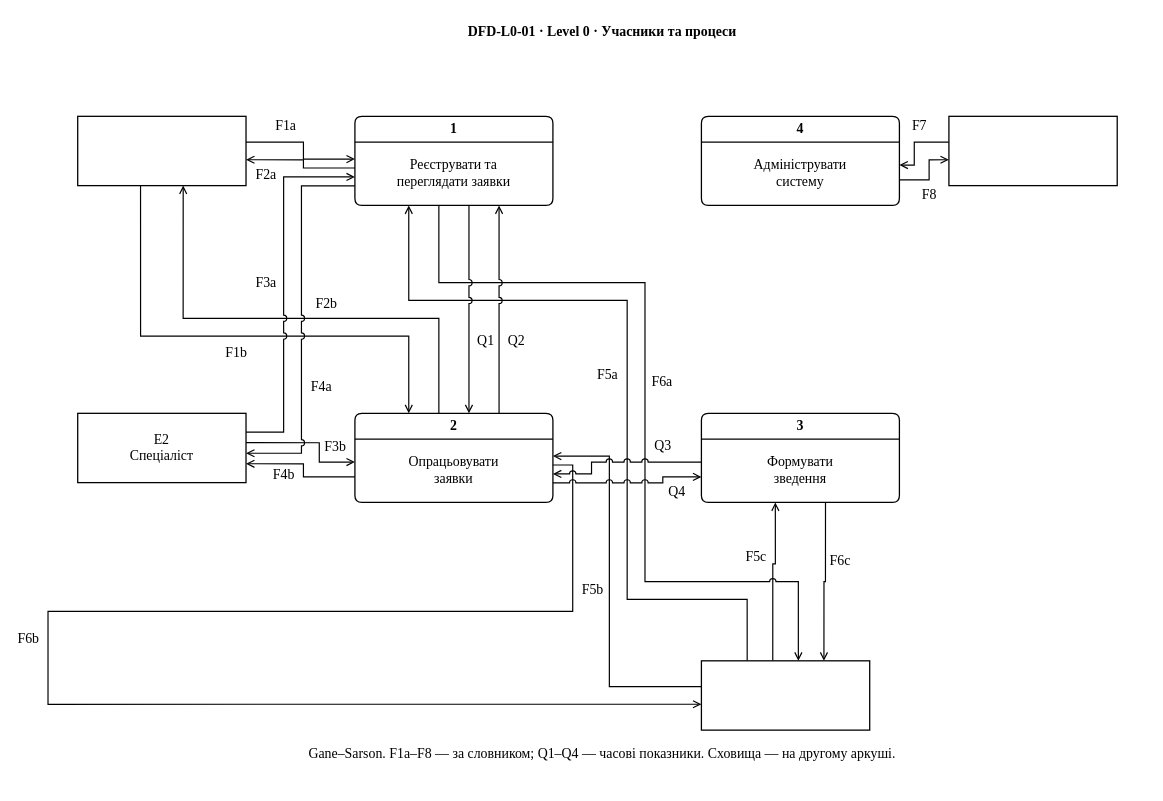
This 1163x801 diagram has some shape labels left out. The shapes that lost their labels are listed below. From the top down, each one's centre as x and y in pixels, then its label:
At point 161,150: "E1 Заявник".
At point 1032,150: "E4 Адміністратор".
At point 785,695: "E3 Координатор".
